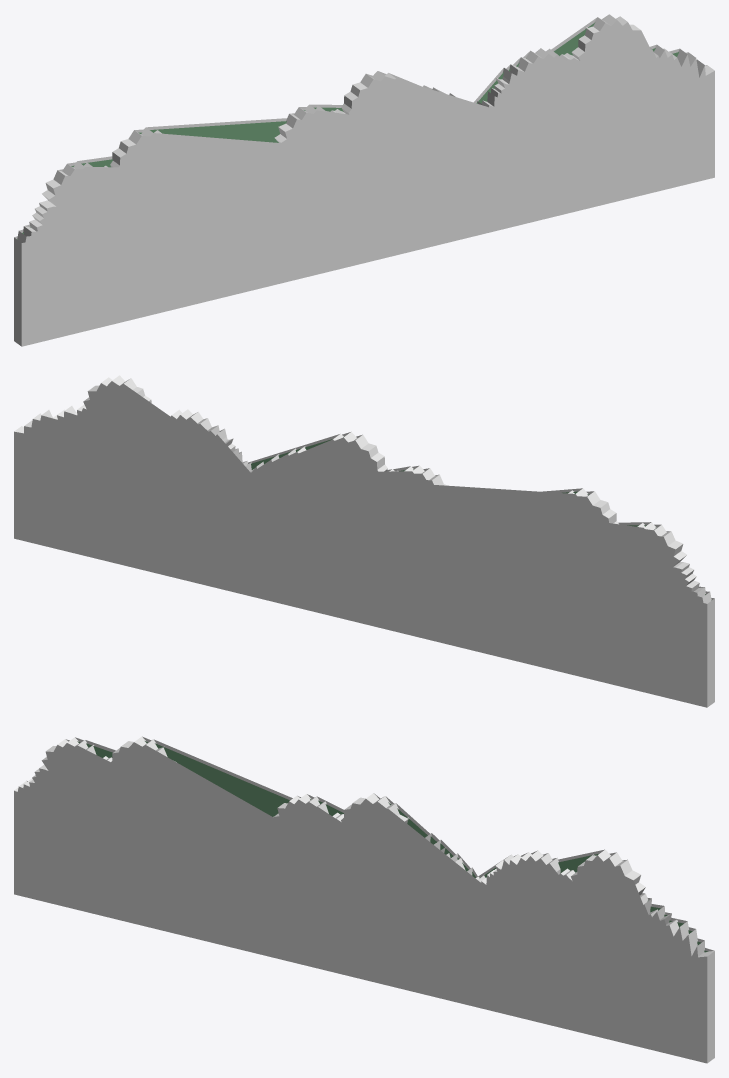
The model's file is resource__surrounding__bushes__big.fbx.
3 renders of one model, top to bottom at view 1: azimuth 30°, elevation 25°; view 2: azimuth 150°, elevation 25°; view 3: azimuth 330°, elevation 25°, orthographic.
Visible parts, largest first — view 1: Map_Surrounding_Bushes_Big; view 2: Map_Surrounding_Bushes_Big; view 3: Map_Surrounding_Bushes_Big.
Boxes of the visible parts, <box> form: Map_Surrounding_Bushes_Big: <box>14,14,714,346</box>; Map_Surrounding_Bushes_Big: <box>14,375,714,707</box>; Map_Surrounding_Bushes_Big: <box>14,736,714,1063</box>.
Bounding box in the file's own units: 2060 × 516 × 40.
